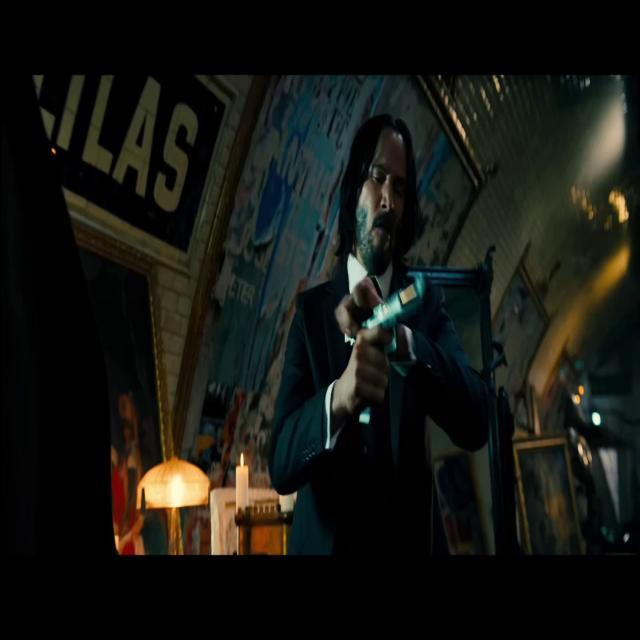weapons: (332, 264, 432, 434)
